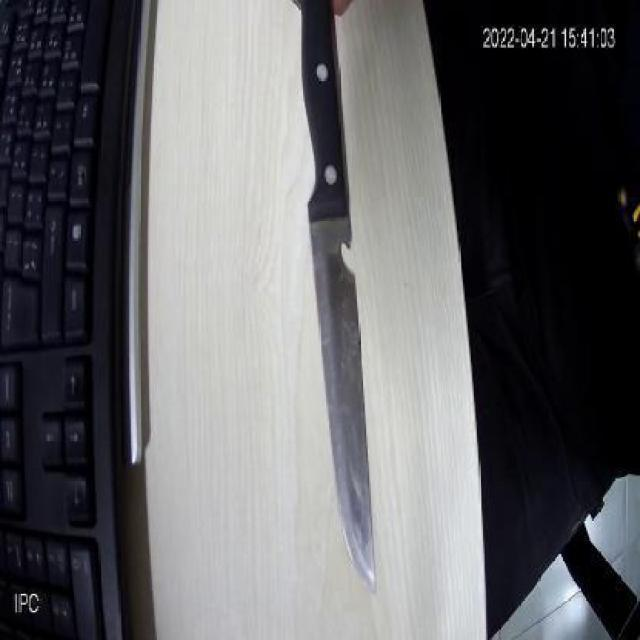-: (254, 28, 409, 603)
